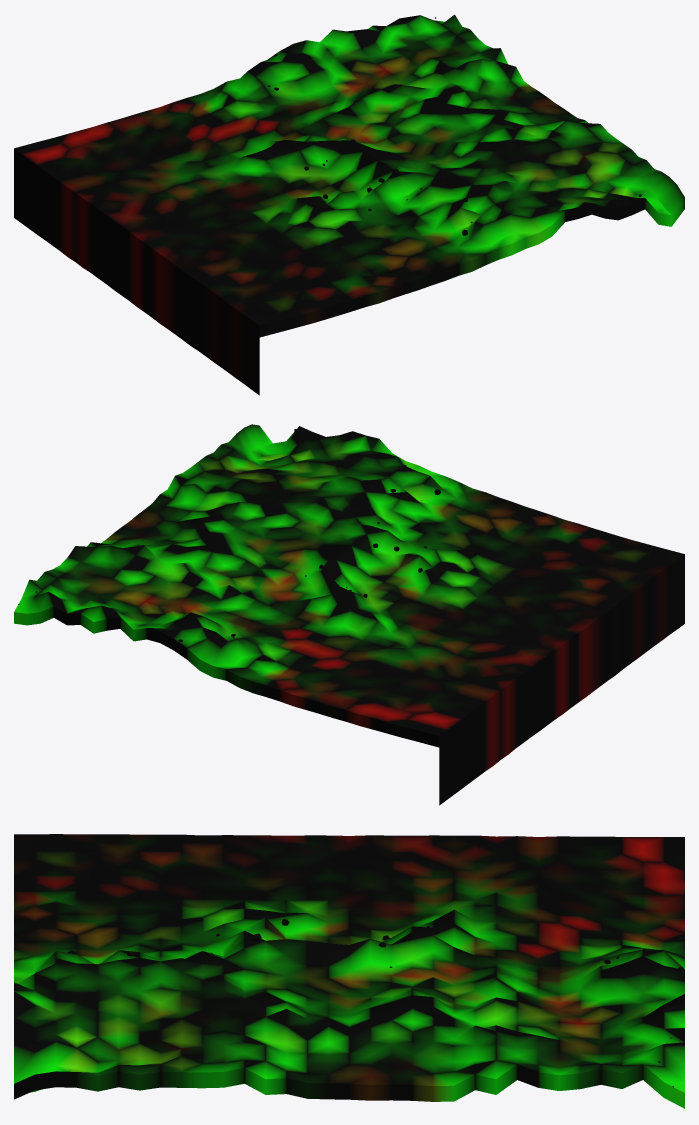
Rendered from Terrain_01_07.fbx.
3 renders of one model, top to bottom at view 1: azimuth 30°, elevation 25°; view 2: azimuth 150°, elevation 25°; view 3: azimuth 270°, elevation 25°, orthographic. The views are drawn at different scales.
Parts seen in each view (by area): view 1: Terrain_01_07_LOD0; view 2: Terrain_01_07_LOD0; view 3: Terrain_01_07_LOD0.
Boxes of the visible parts, x1,y1,x2,y2 form: Terrain_01_07_LOD0: (14, 14, 684, 395); Terrain_01_07_LOD0: (14, 424, 684, 805); Terrain_01_07_LOD0: (14, 834, 684, 1108).
Size of what is drawn, in the model's own units: 384 by 97.97 by 384.
